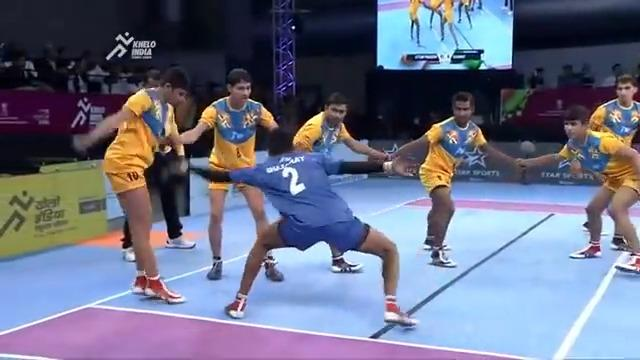Player: (72, 65, 193, 304), (162, 67, 284, 282), (385, 90, 526, 268), (515, 103, 639, 272), (289, 91, 390, 274), (570, 73, 639, 254)
Raider: (179, 125, 419, 329)
